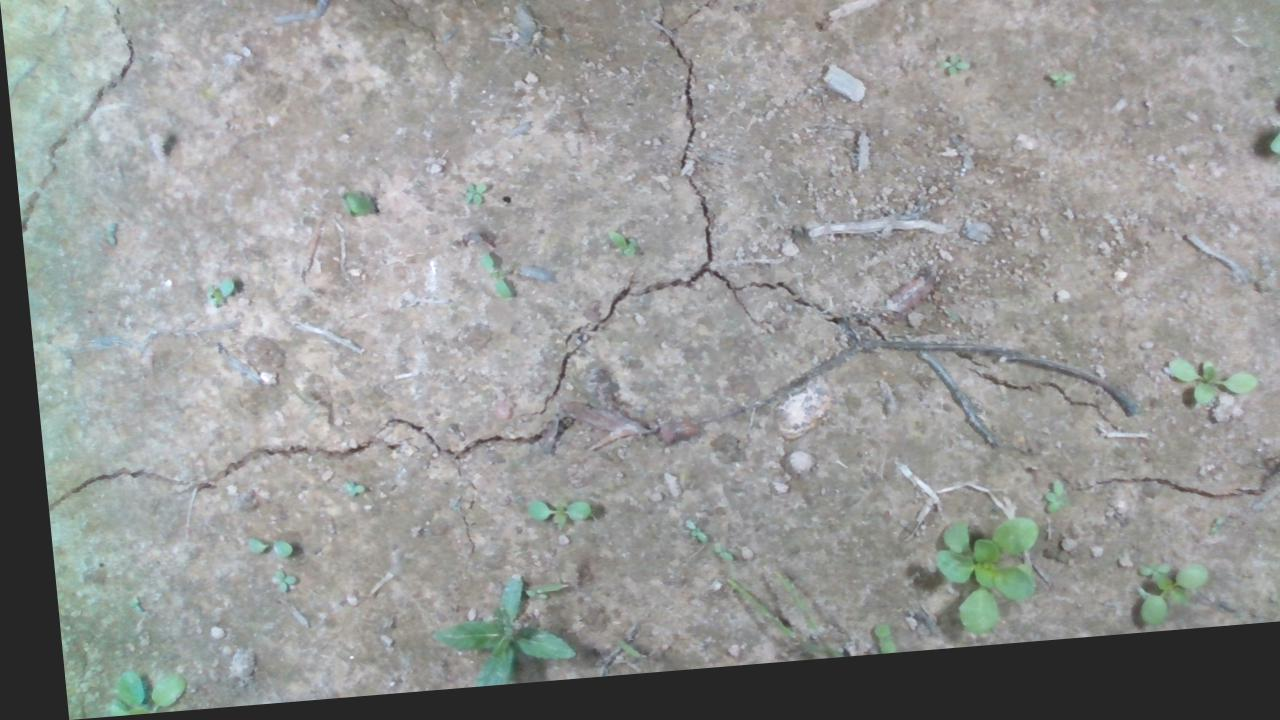weed: (1155, 371, 1250, 426), (505, 498, 594, 533), (466, 257, 524, 310), (187, 279, 254, 317), (593, 236, 648, 273), (1025, 491, 1071, 535), (1035, 77, 1105, 103), (450, 186, 496, 217), (928, 69, 985, 93), (230, 538, 284, 563), (256, 574, 286, 596), (327, 485, 356, 502)
